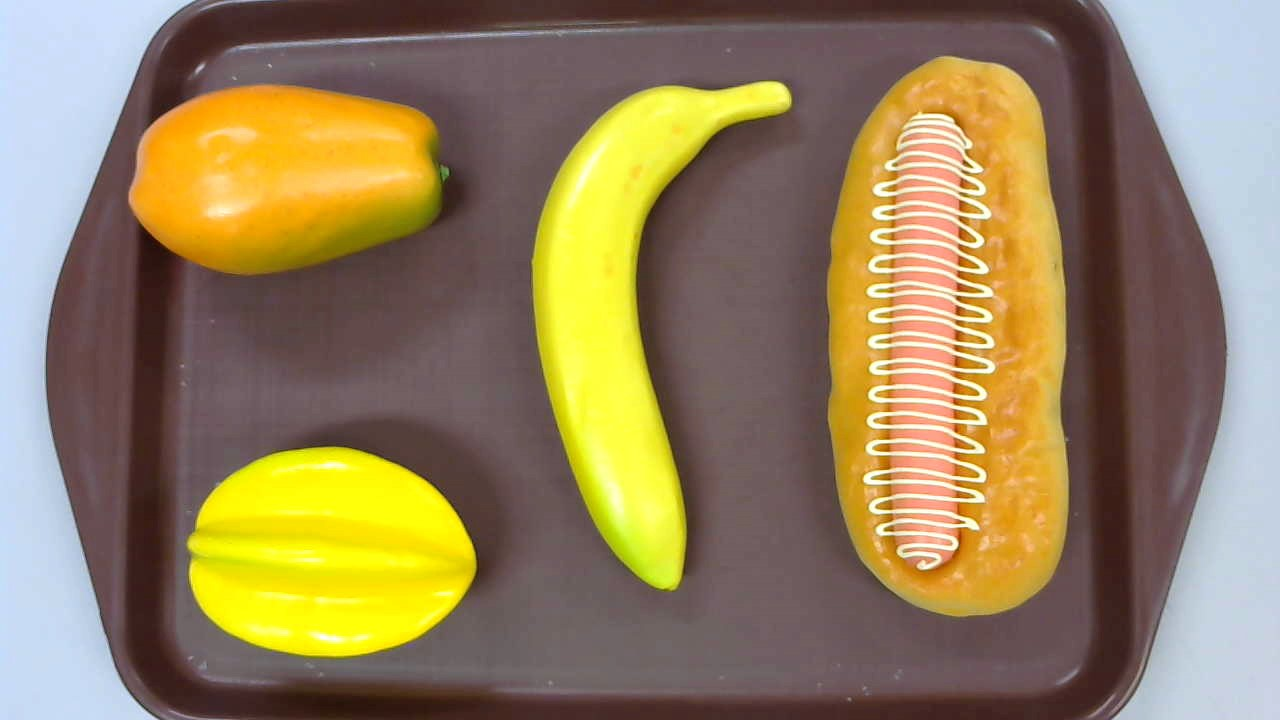banana: (531, 81, 793, 591)
hot dog: (826, 54, 1070, 617)
papya: (129, 83, 451, 276)
star fruit: (187, 444, 476, 658)
